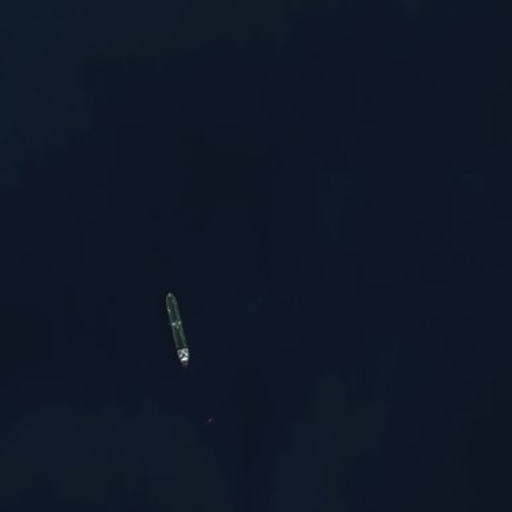ship: (161, 287, 194, 373)
